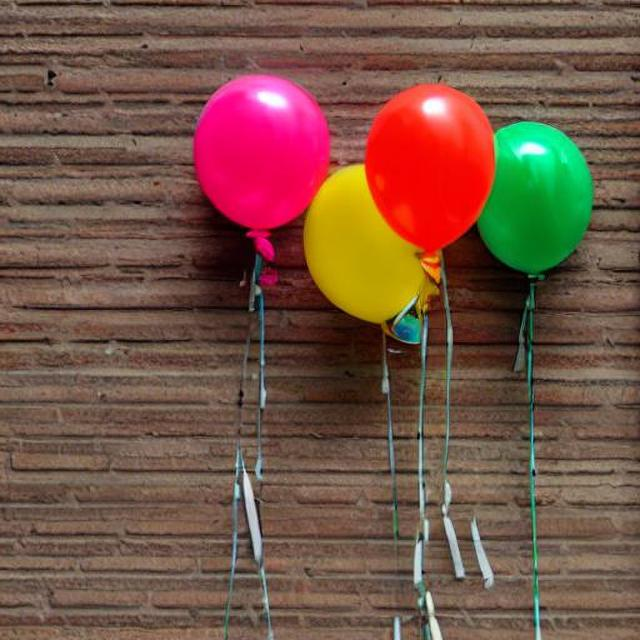balloon: (298, 89, 501, 351), (184, 76, 347, 339), (448, 107, 592, 303), (295, 160, 435, 330)
